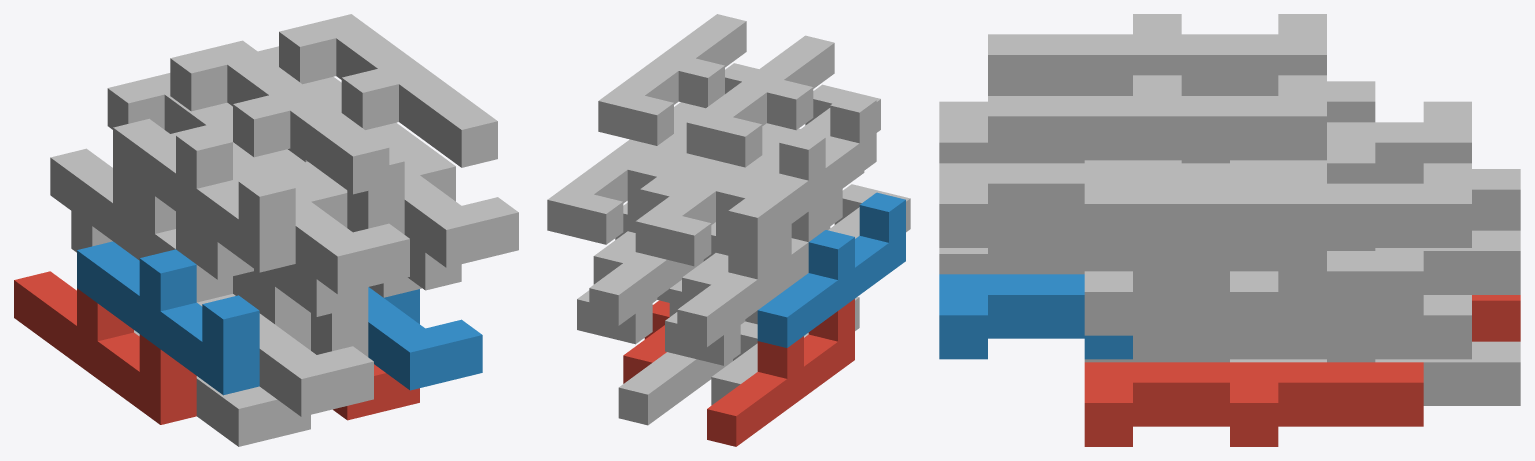
The model's file is tiling.obj.
The picture shows the model from 3 angles, left to right: view 1: azimuth 30°, elevation 25°; view 2: azimuth 150°, elevation 25°; view 3: azimuth 270°, elevation 25°; orthographic projection. The views are drawn at different scales.
Visible parts, largest first — view 1: copy_3_domain_4, copy_3_domain_8, copy_1_domain_2, copy_1_domain_4, copy_1_domain_1, copy_2_domain_4, copy_2_domain_8, copy_1_domain_3, copy_2_domain_2, copy_2_domain_6, copy_3_domain_3, copy_3_domain_2 (+9 smaller); view 2: copy_1_domain_2, copy_1_domain_4, copy_3_domain_4, copy_3_domain_8, copy_1_domain_1, copy_1_domain_3, copy_3_domain_3, copy_3_domain_7, copy_1_domain_5, copy_1_domain_7, copy_2_domain_4, copy_2_domain_1 (+11 smaller); view 3: copy_3_domain_8, copy_2_domain_5, copy_3_domain_7, copy_3_domain_4, copy_2_domain_7, copy_2_domain_8, copy_3_domain_5, copy_2_domain_6, copy_3_domain_6, copy_3_domain_3, copy_1_domain_5, copy_1_domain_7 (+6 smaller).
Part boxes in pixels (<box>): copy_3_domain_4: <box>170,40,389,194</box>; copy_3_domain_8: <box>279,14,497,167</box>; copy_1_domain_2: <box>77,241,259,395</box>; copy_1_domain_4: <box>113,118,295,272</box>; copy_1_domain_1: <box>14,271,196,424</box>; copy_2_domain_4: <box>233,145,409,294</box>; copy_2_domain_8: <box>402,151,518,267</box>; copy_1_domain_3: <box>50,148,232,302</box>; copy_2_domain_2: <box>197,294,373,416</box>; copy_2_domain_6: <box>368,287,482,390</box>; copy_3_domain_3: <box>107,73,325,185</box>; copy_3_domain_2: <box>134,181,352,316</box>; copy_1_domain_2: <box>757,192,905,347</box>; copy_1_domain_4: <box>728,93,876,248</box>; copy_3_domain_4: <box>686,35,834,167</box>; copy_3_domain_8: <box>598,14,746,145</box>; copy_1_domain_1: <box>707,299,854,446</box>; copy_1_domain_3: <box>677,199,825,347</box>; copy_3_domain_3: <box>635,136,780,266</box>; copy_3_domain_7: <box>547,114,690,244</box>; copy_1_domain_5: <box>618,321,746,425</box>; copy_1_domain_7: <box>589,222,715,325</box>; copy_2_domain_4: <box>733,84,880,185</box>; copy_2_domain_1: <box>711,296,859,405</box>; copy_3_domain_8: <box>988,75,1326,160</box>; copy_2_domain_5: <box>1084,362,1423,446</box>; copy_3_domain_7: <box>1133,163,1471,247</box>; copy_3_domain_4: <box>988,14,1326,95</box>; copy_2_domain_7: <box>1084,251,1423,335</box>; copy_2_domain_8: <box>939,163,1278,247</box>; copy_3_domain_5: <box>1133,295,1471,359</box>; copy_2_domain_6: <box>939,274,1132,359</box>; copy_3_domain_6: <box>988,227,1326,271</box>; copy_3_domain_3: <box>1327,101,1471,183</box>; copy_1_domain_5: <box>1181,341,1520,405</box>; copy_1_domain_7: <box>1327,230,1520,294</box>.
Size of the model in its own units: 7 by 8 by 12.
